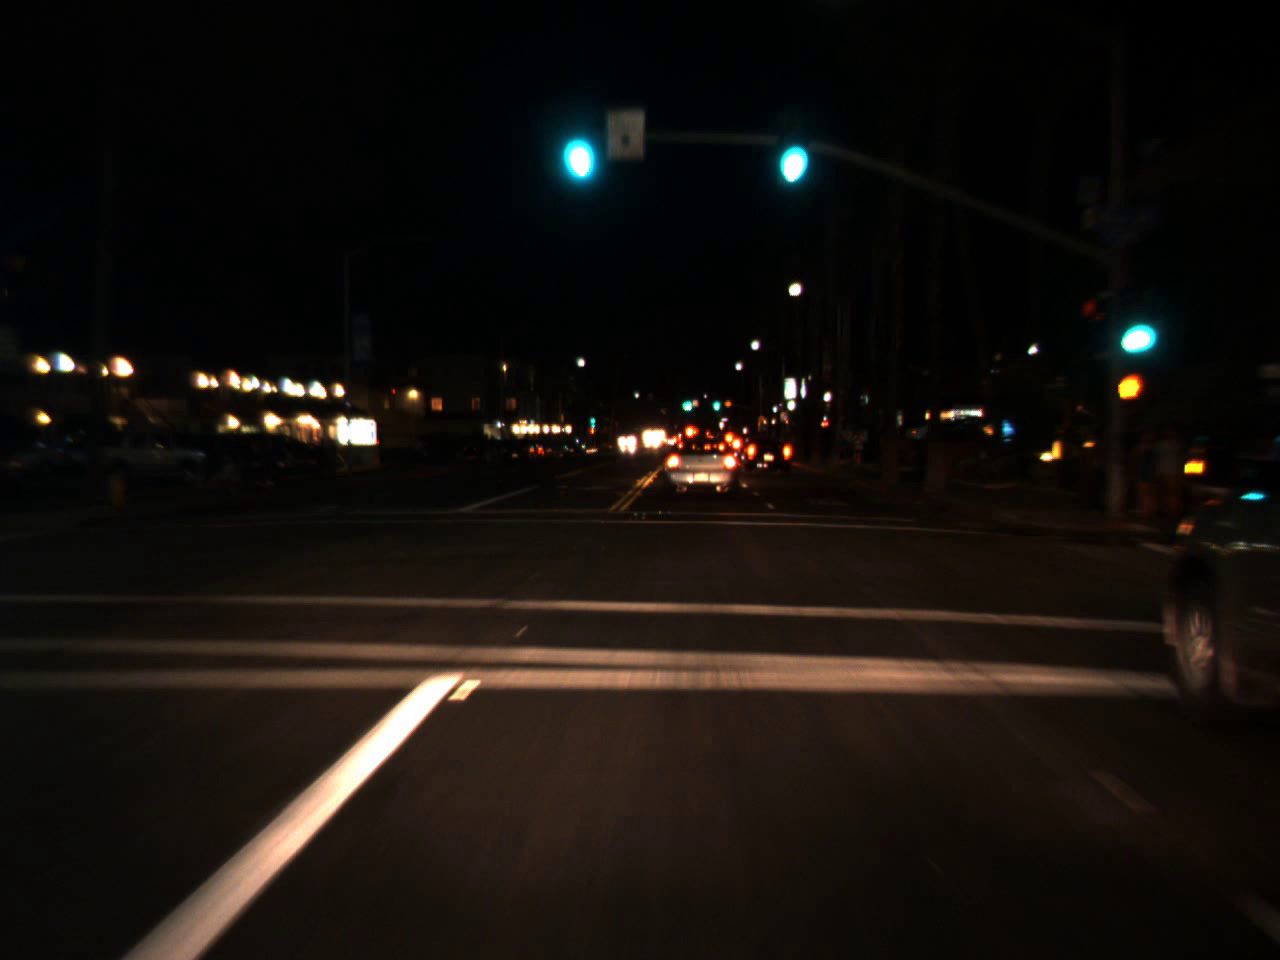go: (1106, 287, 1158, 365), (555, 101, 598, 188), (769, 111, 812, 195), (678, 391, 694, 412), (711, 393, 721, 411), (589, 413, 596, 425)
